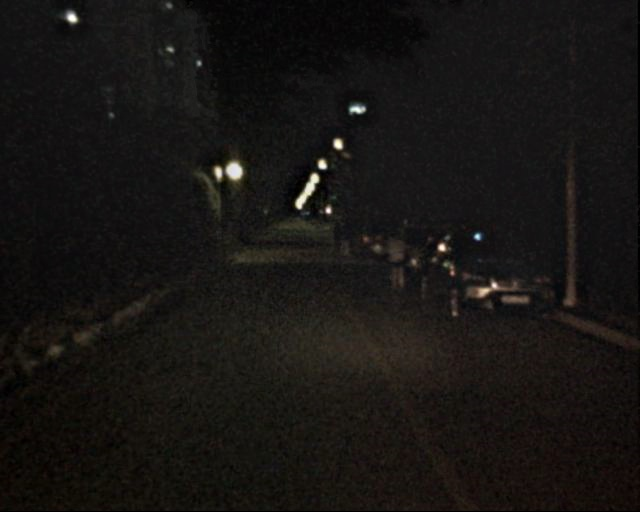person: (378, 227, 407, 297), (335, 217, 352, 258), (329, 226, 339, 250)
